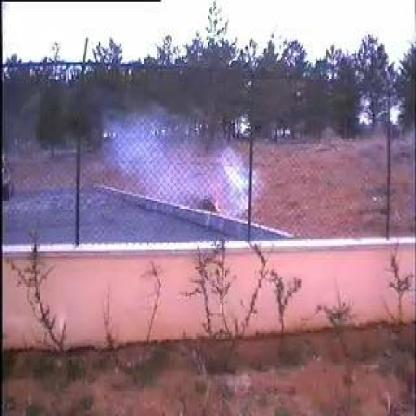-: (69, 108, 247, 239)
